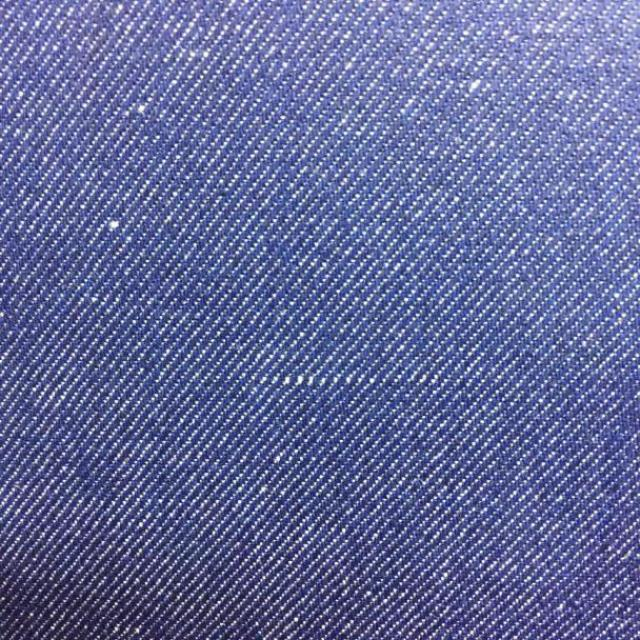Knot: (261, 371, 364, 389)
